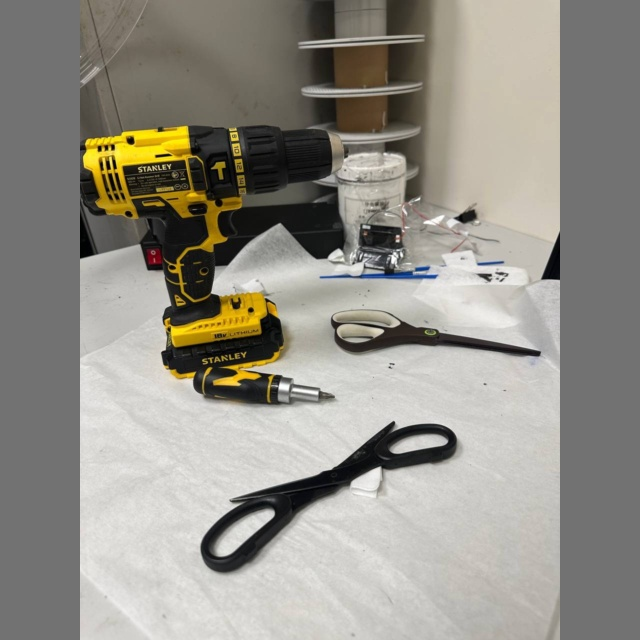drill: (82, 125, 334, 381)
scissor: (201, 422, 457, 572), (331, 309, 541, 356)
screwdriver: (190, 367, 334, 404)
